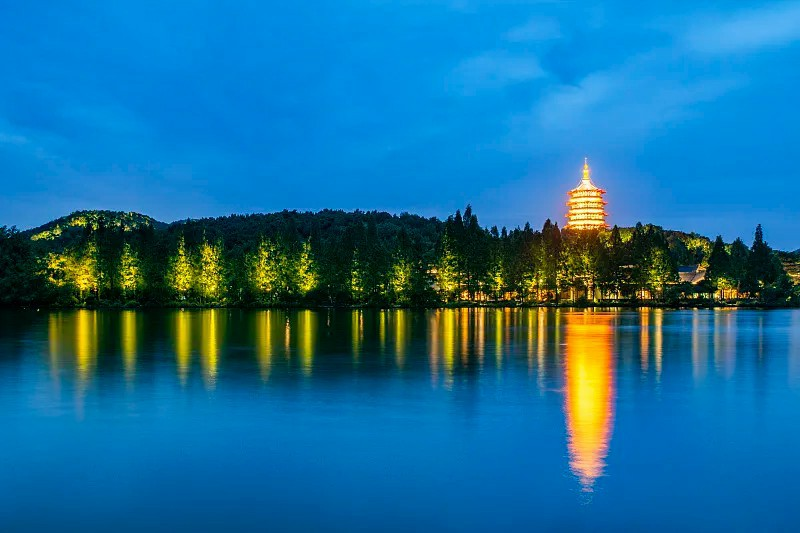Leifeng: (561, 154, 610, 233)
